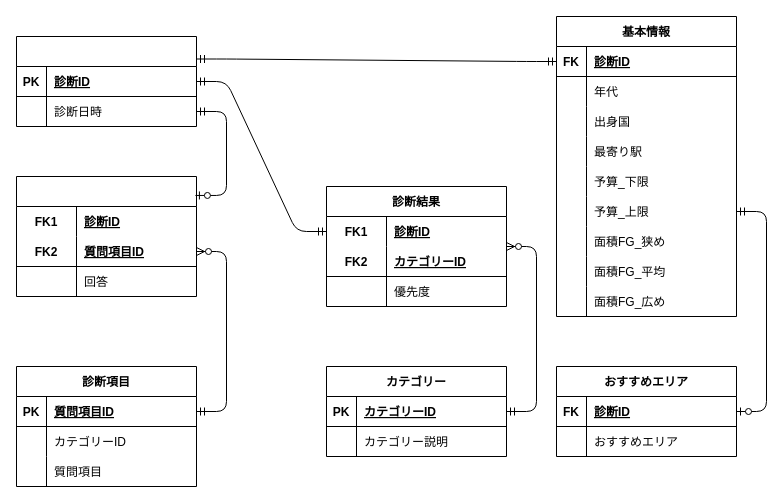
The diagram is 783 pixels wide and 503 high, and some of its shapes have lost their labels. The shapes that lost their labels are listed below. From the top down, each one's box as (x1, y1, x2, y2) in pixels, then its label:
(16, 36, 196, 126): 診断
(16, 176, 196, 296): 診断回答
